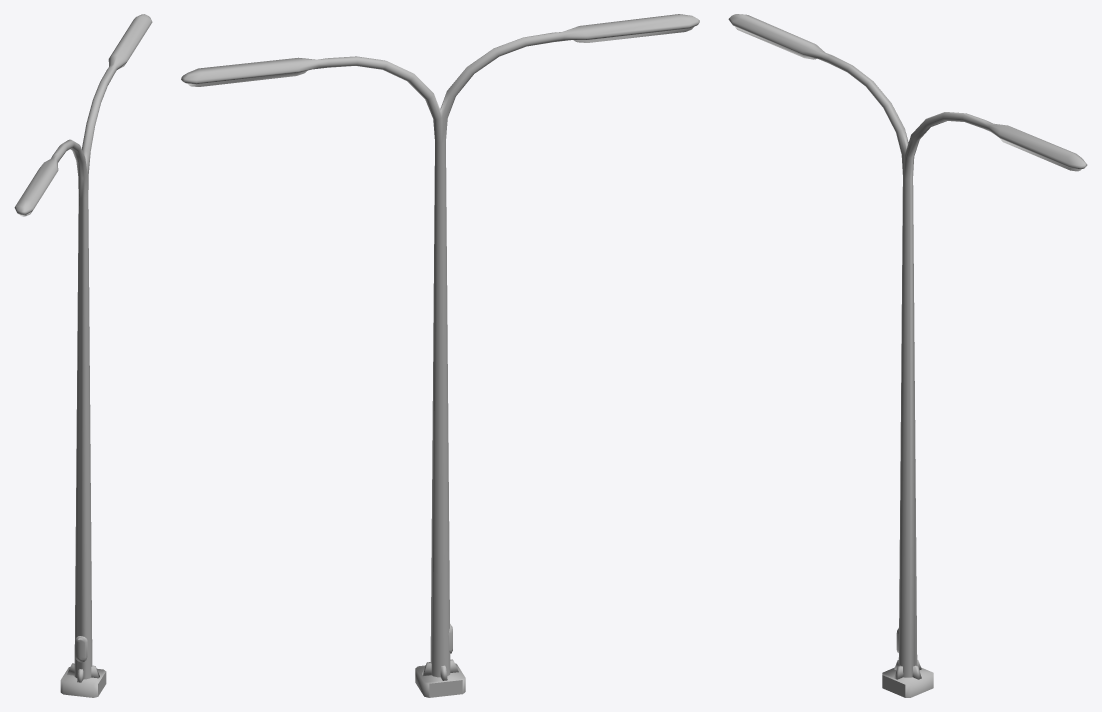
The model's file is nc_prop_lamp_double_01.fbx.
3 renders of one model, left to right at view 1: azimuth 30°, elevation 25°; view 2: azimuth 150°, elevation 25°; view 3: azimuth 270°, elevation 25°, orthographic. The views are drawn at different scales.
Parts seen in each view (by area): view 1: nc_prop_lamp_double_01_LOD0; view 2: nc_prop_lamp_double_01_LOD0; view 3: nc_prop_lamp_double_01_LOD0.
Boxes of the visible parts, x1,y1,x2,y2 form: nc_prop_lamp_double_01_LOD0: (14,14,152,697); nc_prop_lamp_double_01_LOD0: (181,14,699,697); nc_prop_lamp_double_01_LOD0: (728,14,1087,697).
Size of what is drawn, in the model's own units: 1.84 by 3.4 by 1.84.
1 material, 1 textured.
